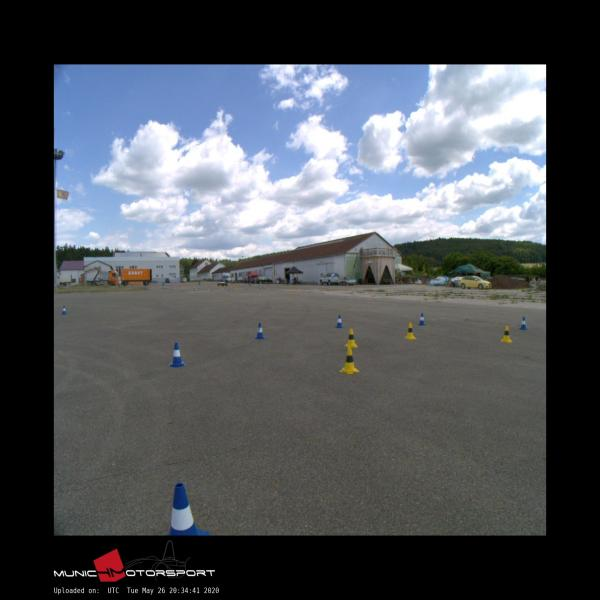blue_cone: (167, 483, 210, 535), (168, 342, 186, 368), (254, 322, 265, 339), (334, 314, 343, 327), (519, 316, 527, 329), (418, 312, 425, 325), (62, 306, 67, 314)
yellow_cone: (339, 347, 359, 374), (345, 328, 357, 347), (403, 322, 415, 339), (500, 325, 512, 342)
